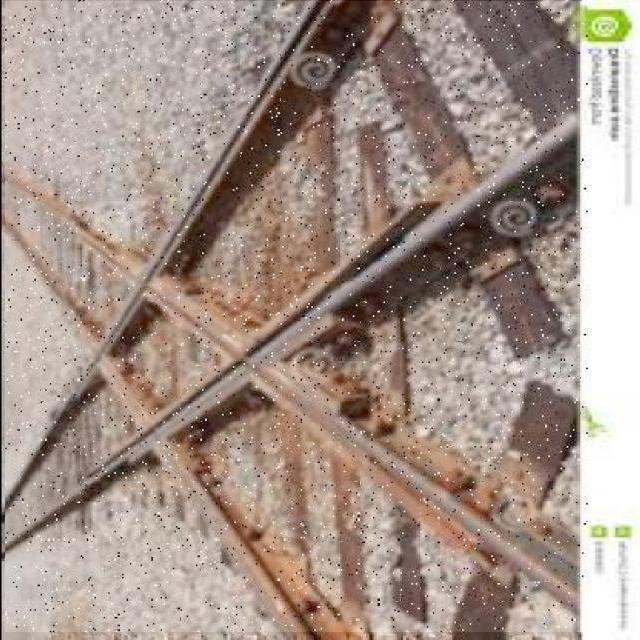rail: (7, 2, 586, 633)
